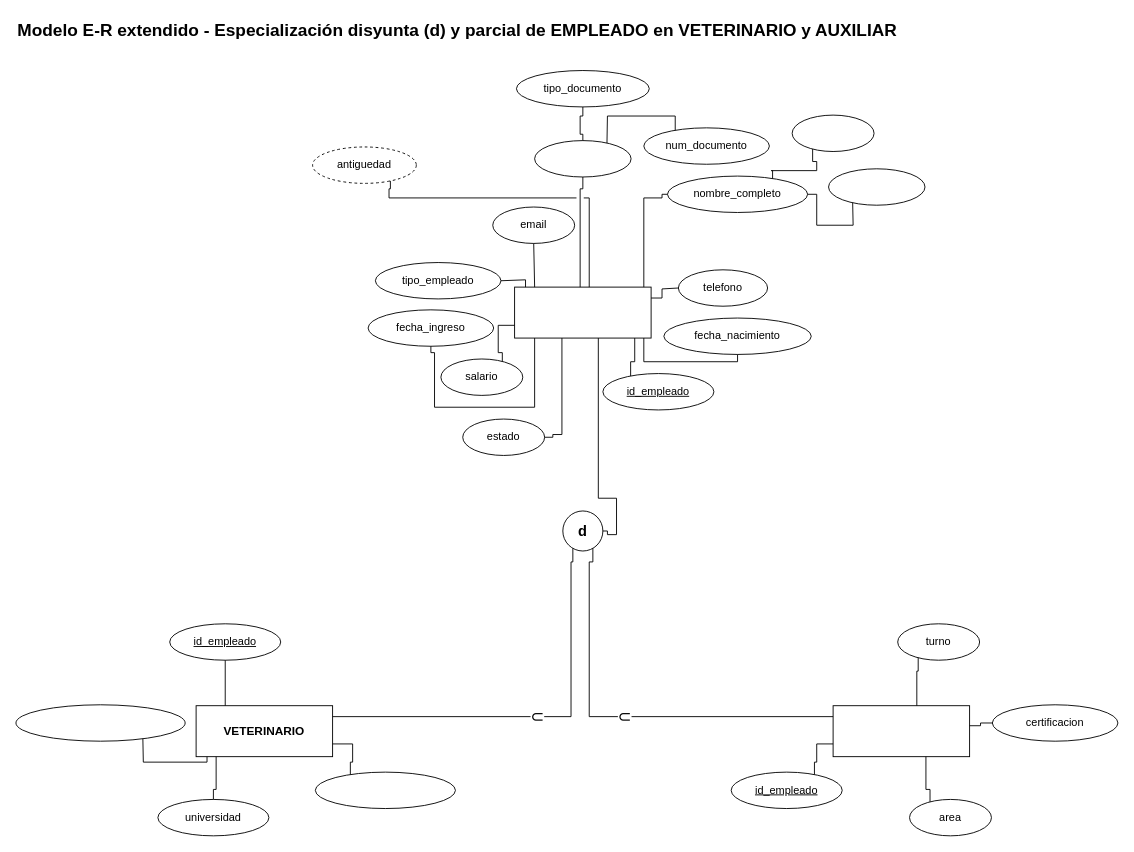
This 1134x852 diagram has some shape labels left out. Each missing label, with the centre of its shape:
"anio_graduacion" belongs at [384,790].
"apellidos" belongs at [876,186].
"AUXILIAR" belongs at [901,731].
"documento" belongs at [582,158].
"EMPLEADO" belongs at [582,312].
"nombres" belongs at [832,133].
"tarjeta_profesional" belongs at [100,722].
